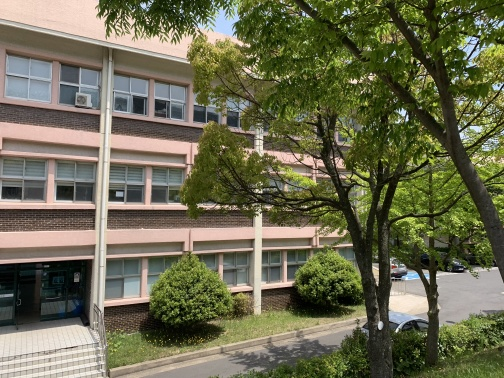College Of Education: (5, 10, 382, 365)
